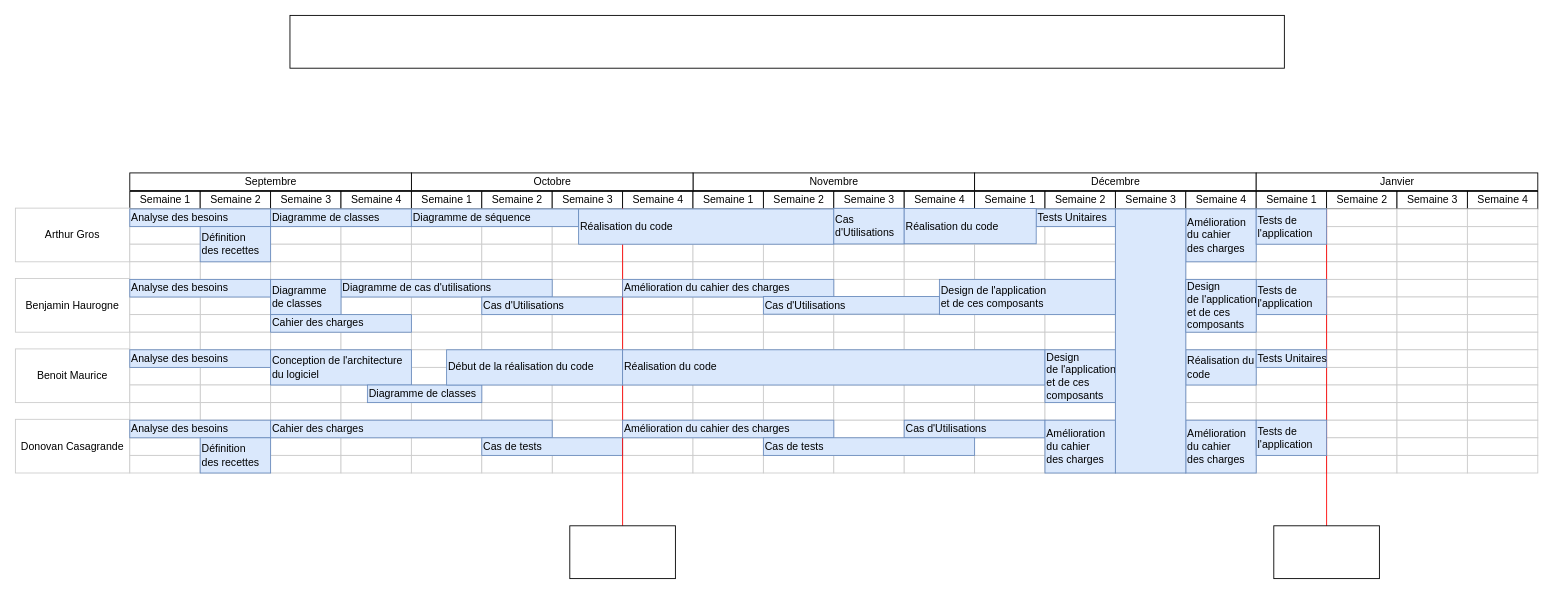
The diagram is 1553 pixels wide and 594 high, and some of its shapes have lost their labels. Each missing label, with the centre of its shape:
"19 Octobre" goes at [622,552].
"8 Janvier" goes at [1326,552].
"Annexe 4 : Diagramme de Gantt" goes at [786,41].
"Révision de l'ensemble du projet" goes at [1150,340].
